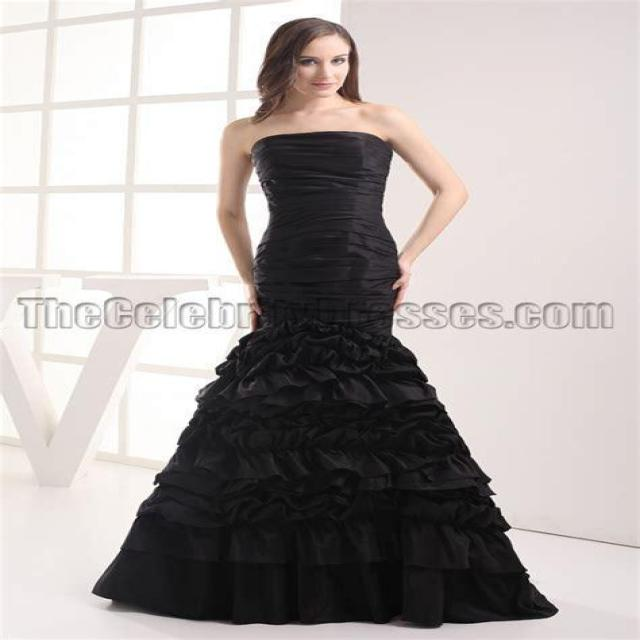dress: (91, 132, 560, 628)
